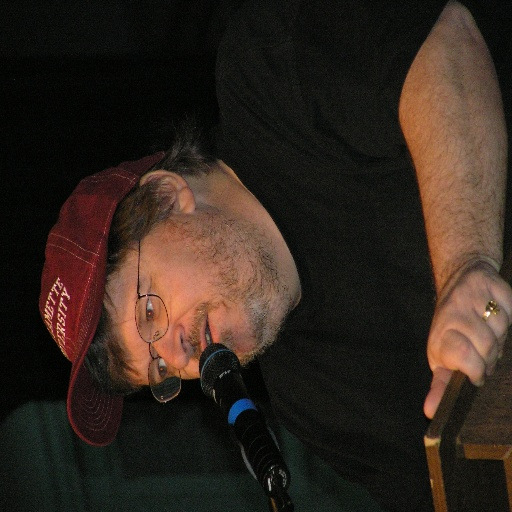hand: (426, 255, 506, 411)
